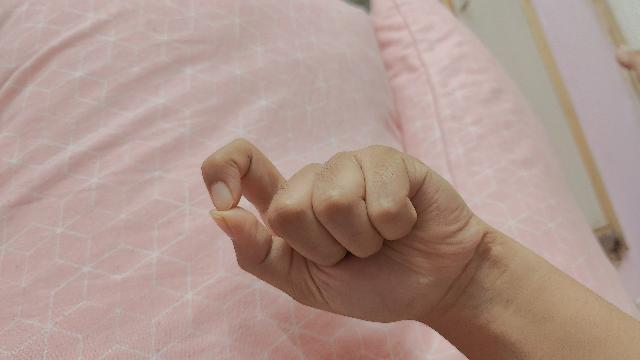kapitth: (198, 138, 640, 360)
